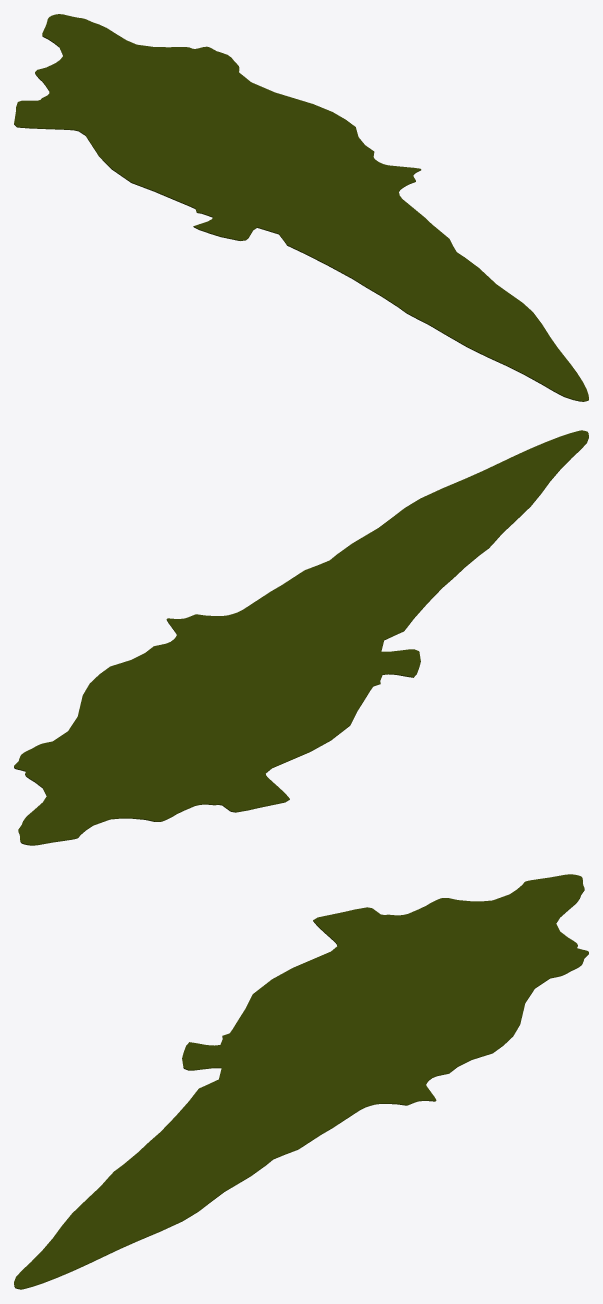
Rendered from timsahderisi (1).fbx.
The picture shows the model from 3 angles, top to bottom: view 1: azimuth 30°, elevation 25°; view 2: azimuth 150°, elevation 25°; view 3: azimuth 330°, elevation 25°; orthographic projection. The views are drawn at different scales.
Parts seen in each view (by area): view 1: Plane.014; view 2: Plane.014; view 3: Plane.014.
Part boxes in pixels (<box>): Plane.014: <box>14,14,588,401</box>; Plane.014: <box>14,430,588,845</box>; Plane.014: <box>14,874,588,1289</box>.
Size of the model in its own units: 136 by 0.4504 by 478.
